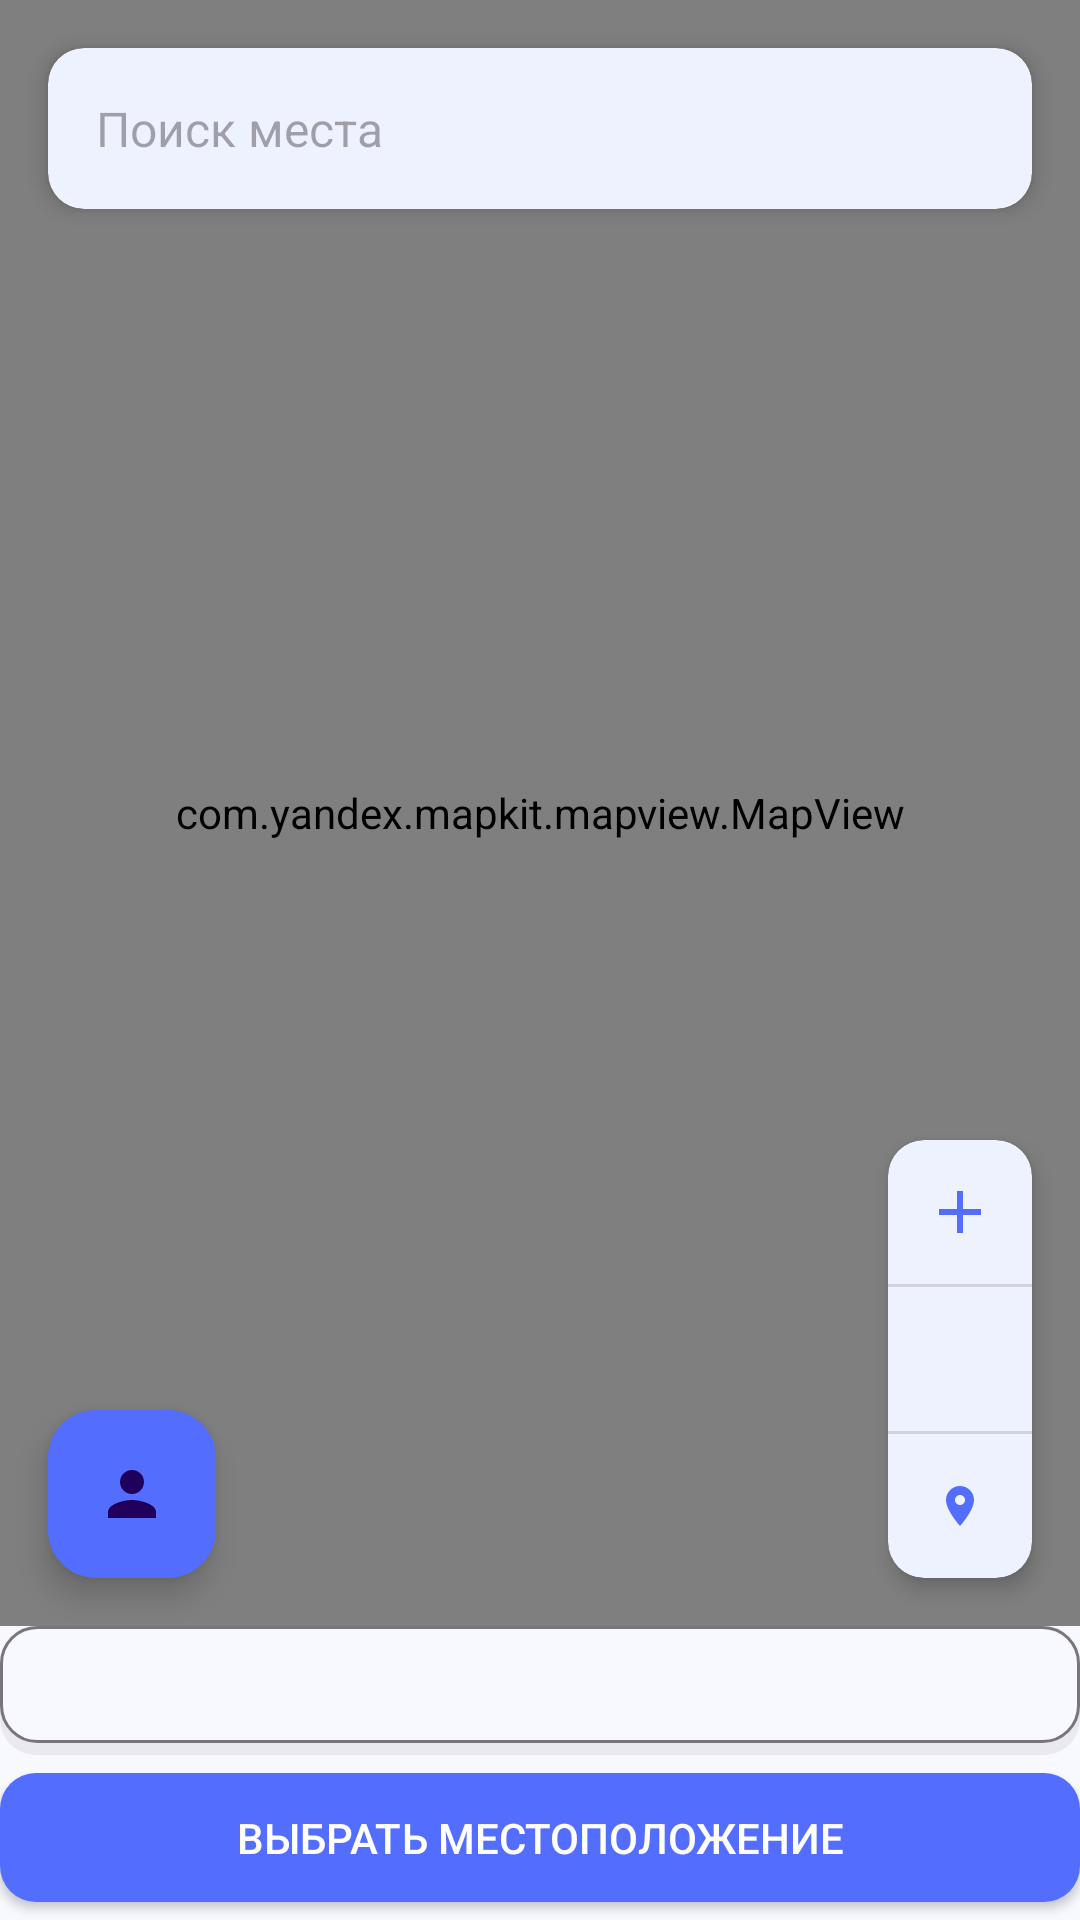

Named icons in this screenshot (1080 × 1920) and their centers, [x,y]:
add: [960,1212]
location: [960,1506]
Найти меня: [132,1494]
